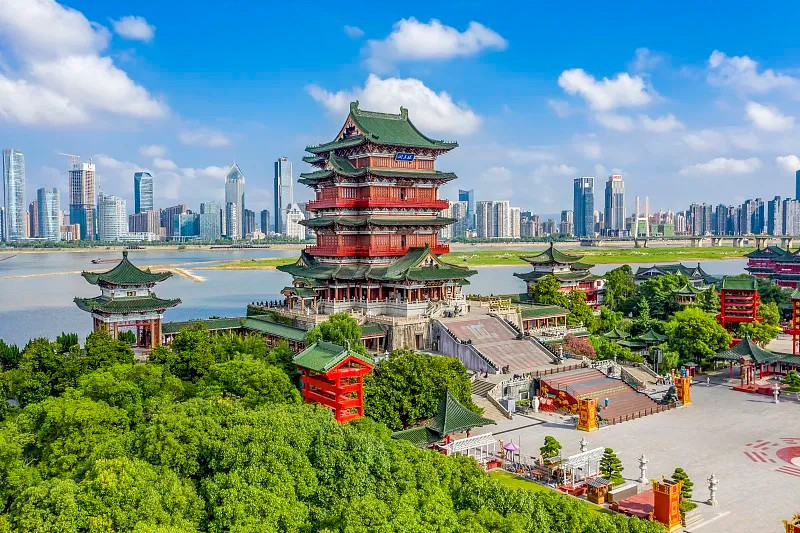Teng: (275, 100, 477, 303)
